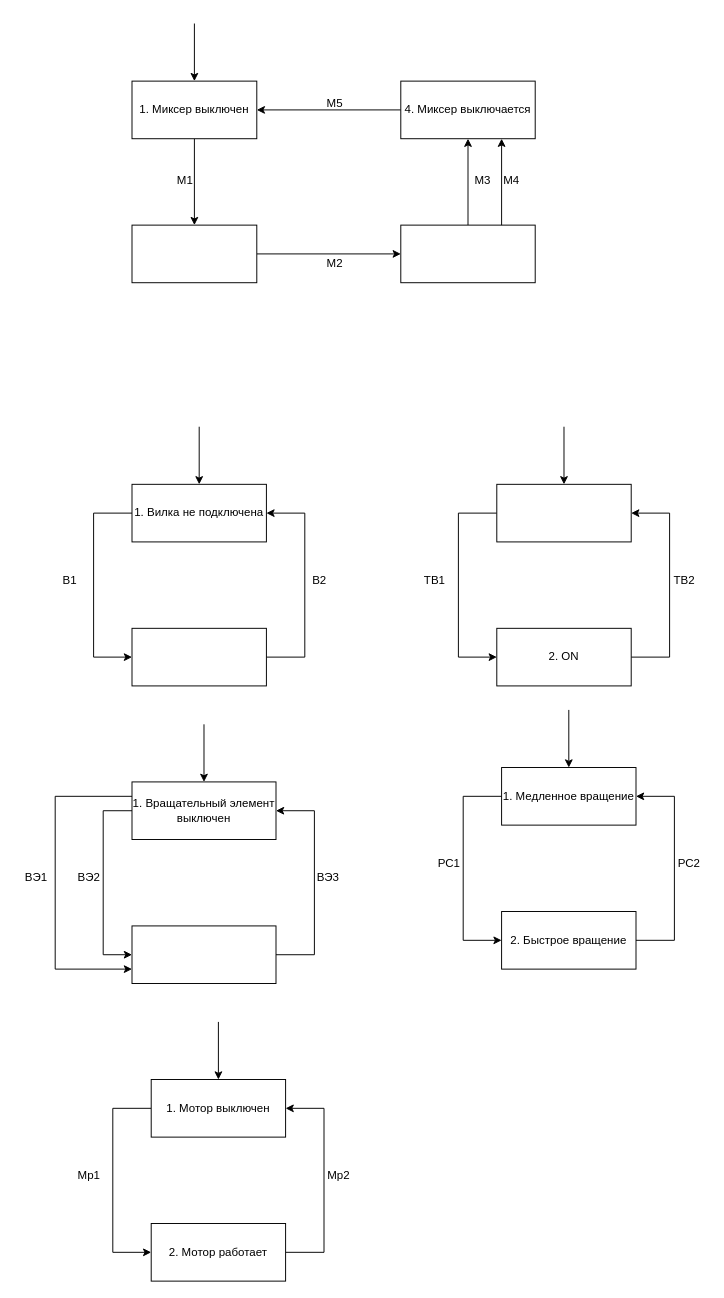
The diagram is 724 pixels wide and 1298 high, and some of its shapes have lost their labels. The centre of each missing label's shape, as x and y in pixels:
1. OFF: pixel 563 512
2. Вилка подключена: pixel 198 656
2. Вращательный элемент работает: pixel 203 954
2. Миксер включается: pixel 194 253
3. Миксер работает: pixel 467 253
